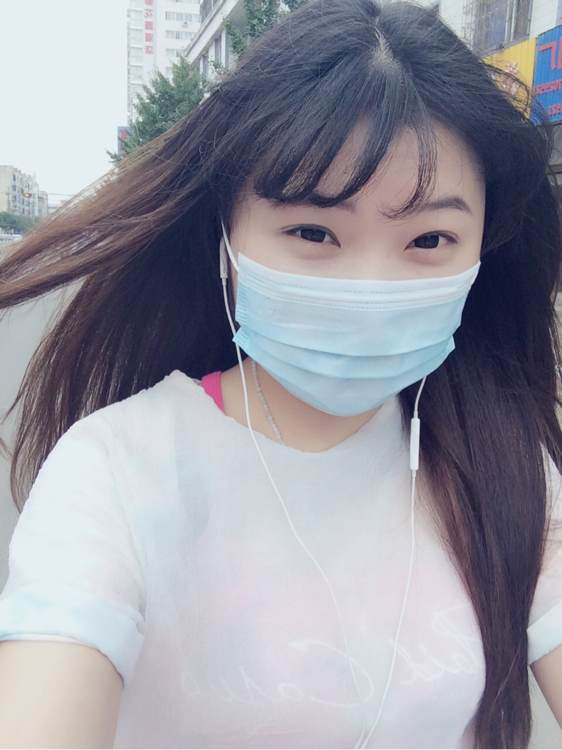face_mask: (238, 96, 478, 425)
